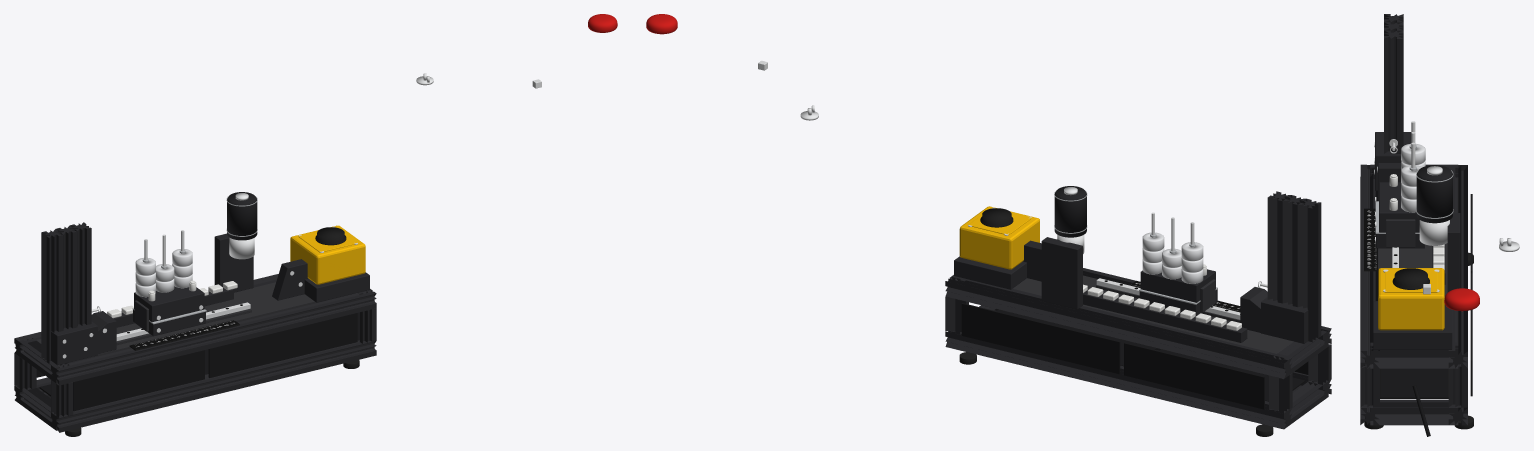
Rendered from oscar.glb.
3 renders of one model, left to right at view 1: azimuth 30°, elevation 25°; view 2: azimuth 150°, elevation 25°; view 3: azimuth 270°, elevation 25°, orthographic. The views are drawn at different scales.
Visible parts, largest first — view 1: ex, ex.002, Cube.004, Cube.001, Cube, ez.004, Cube.024, Cube.007, ez.005, ez.006, Cube.030, Cube.026 (+11 smaller); view 2: ex.001, ex.003, Cube.005, Cube.002, ez.004, Cube.024, Cube.026, Cube.010, ez.006, ez.005, Cube.007, Cube (+8 smaller); view 3: Cube.024, ex, ez.006, ex.001, Cube.006, ey.003, Cube.023, can, ey.001, Cube, Cube.026, Cube.030 (+22 smaller).
Part boxes in pixels (<box>): ex: <box>51,290,376,385</box>; ex.002: <box>51,340,376,432</box>; Cube.004: <box>208,313,357,377</box>; Cube.001: <box>73,350,204,411</box>; Cube: <box>36,282,354,363</box>; ez.004: <box>41,229,63,363</box>; Cube.024: <box>290,225,365,284</box>; Cube.007: <box>51,321,97,365</box>; ez.005: <box>56,225,77,330</box>; ez.006: <box>70,222,91,325</box>; Cube.030: <box>134,286,204,322</box>; Cube.026: <box>214,233,253,292</box>; ex.001: <box>945,275,1292,378</box>; ex.003: <box>945,330,1292,429</box>; Cube.005: <box>961,303,1120,374</box>; Cube.002: <box>1124,342,1264,409</box>; ez.004: <box>1297,198,1321,342</box>; Cube.024: <box>959,206,1039,269</box>; Cube.026: <box>1041,237,1082,309</box>; Cube.010: <box>1083,290,1247,342</box>; ez.006: <box>1267,191,1291,303</box>; ez.005: <box>1282,195,1306,306</box>; Cube.007: <box>1261,297,1308,343</box>; Cube: <box>1012,275,1293,353</box>; Cube.024: <box>1378,268,1444,330</box>; ex: <box>1360,164,1379,368</box>; ez.006: <box>1384,30,1403,153</box>; ex.001: <box>1448,164,1467,368</box>; Cube.006: <box>1380,368,1448,398</box>; ey.003: <box>1370,399,1458,425</box>; Cube.023: <box>1373,301,1452,349</box>; can: <box>1416,165,1452,223</box>; ey.001: <box>1370,342,1458,368</box>; Cube: <box>1378,243,1447,297</box>; Cube.026: <box>1447,213,1460,292</box>; Cube.030: <box>1379,182,1419,232</box>.
Bounding box in the file's own units: 0.8482 × 0.3398 × 0.1625.
15 materials, 1 textured.
